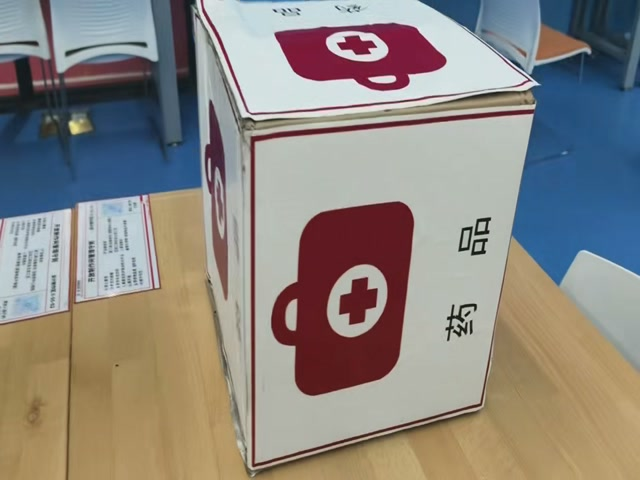Cube_medicine: (196, 0, 545, 125)
